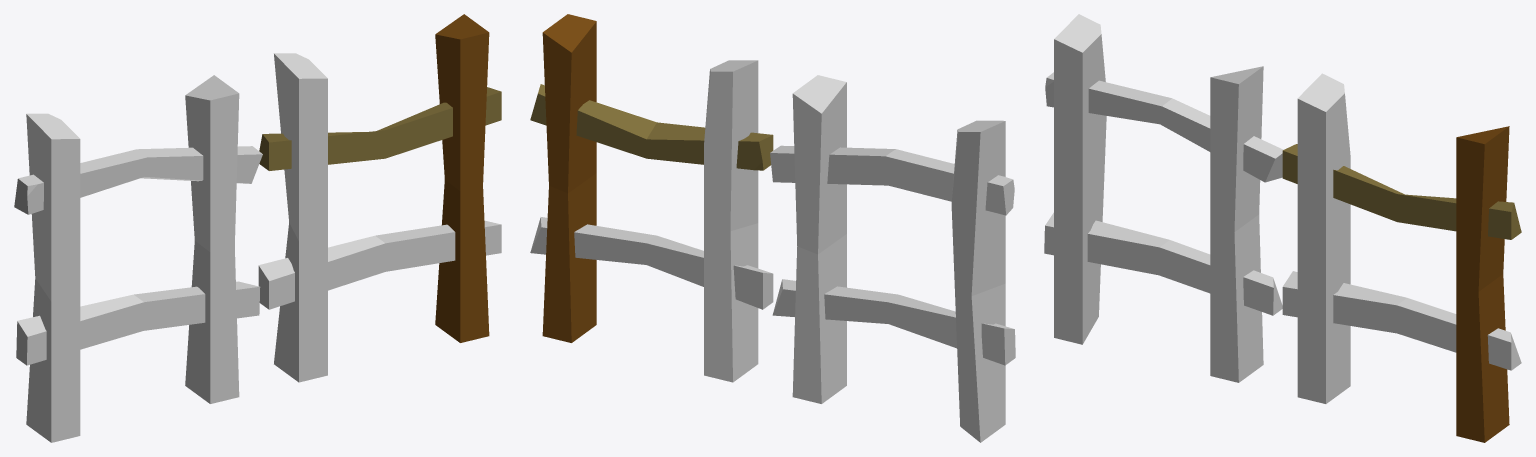
Rendered from Fence.fbx.
3 renders of one model, left to right at view 1: azimuth 30°, elevation 25°; view 2: azimuth 150°, elevation 25°; view 3: azimuth 330°, elevation 25°, orthographic.
Visible parts, largest first — view 1: Fence_5, Fence_4, Fence_1, Fence, Fence_3, Fence_7, Fence_6, Fence_2; view 2: Fence_1, Fence_4, Fence, Fence_5, Fence_6, Fence_2, Fence_7, Fence_3; view 3: Fence_1, Fence_4, Fence_5, Fence, Fence_7, Fence_3, Fence_6, Fence_2.
Boxes of the visible parts, <box> form: Fence_5: <box>26,113,80,442</box>; Fence_4: <box>185,75,239,403</box>; Fence_1: <box>274,53,327,382</box>; Fence: <box>435,14,489,342</box>; Fence_3: <box>258,220,501,309</box>; Fence_7: <box>16,281,260,365</box>; Fence_6: <box>14,146,262,214</box>; Fence_2: <box>259,87,501,170</box>; Fence_1: <box>704,60,758,382</box>; Fence_4: <box>792,75,846,403</box>; Fence: <box>542,14,596,342</box>; Fence_5: <box>951,120,1005,442</box>; Fence_6: <box>770,145,1014,215</box>; Fence_2: <box>530,84,773,170</box>; Fence_7: <box>772,279,1015,365</box>; Fence_3: <box>530,217,773,309</box>; Fence_1: <box>1297,73,1350,403</box>; Fence_4: <box>1210,66,1263,382</box>; Fence_5: <box>1054,14,1106,344</box>; Fence: <box>1456,126,1509,442</box>; Fence_7: <box>1044,212,1282,315</box>; Fence_3: <box>1282,271,1521,370</box>; Fence_6: <box>1045,72,1283,182</box>; Fence_2: <box>1282,144,1521,239</box>.
Bounding box in the file's own units: 2.47 × 0.2252 × 1.54.
